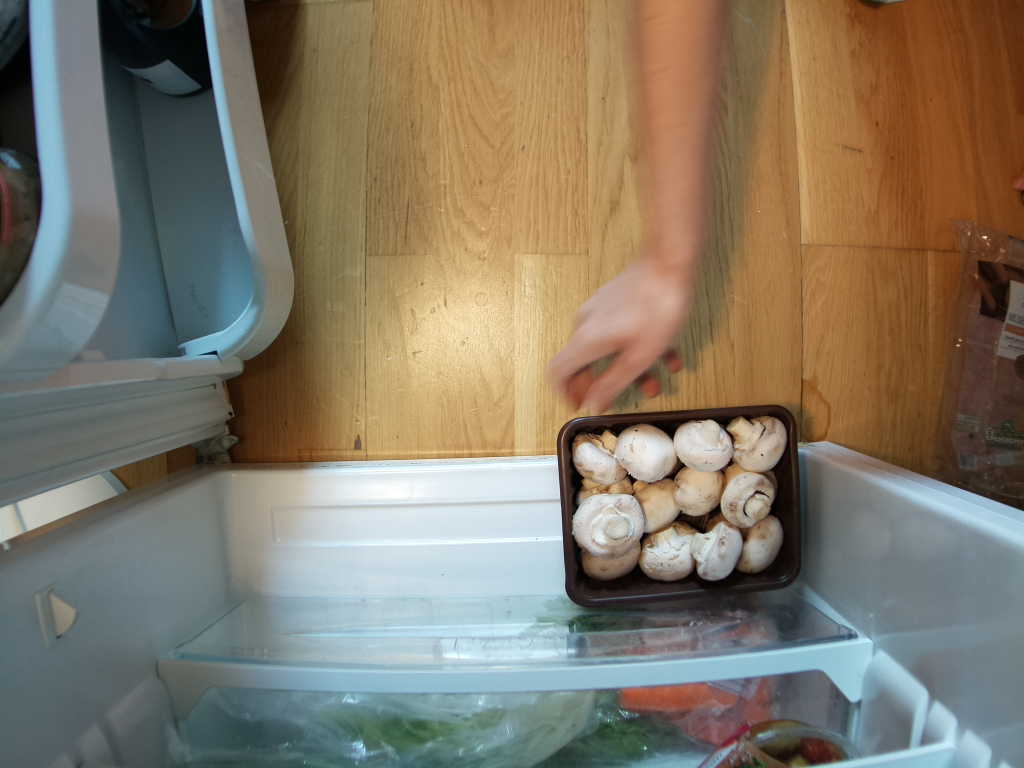mushrooms: (548, 404, 815, 614)
